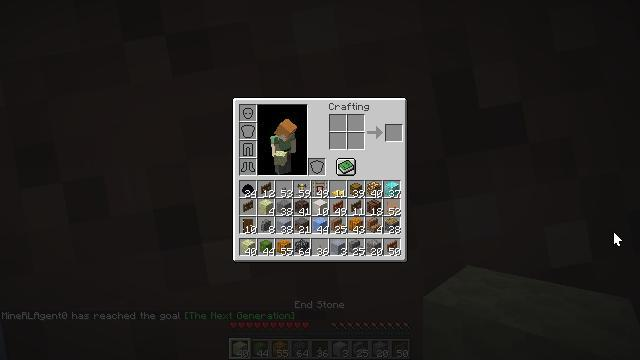cursor: (613, 231, 623, 247)
